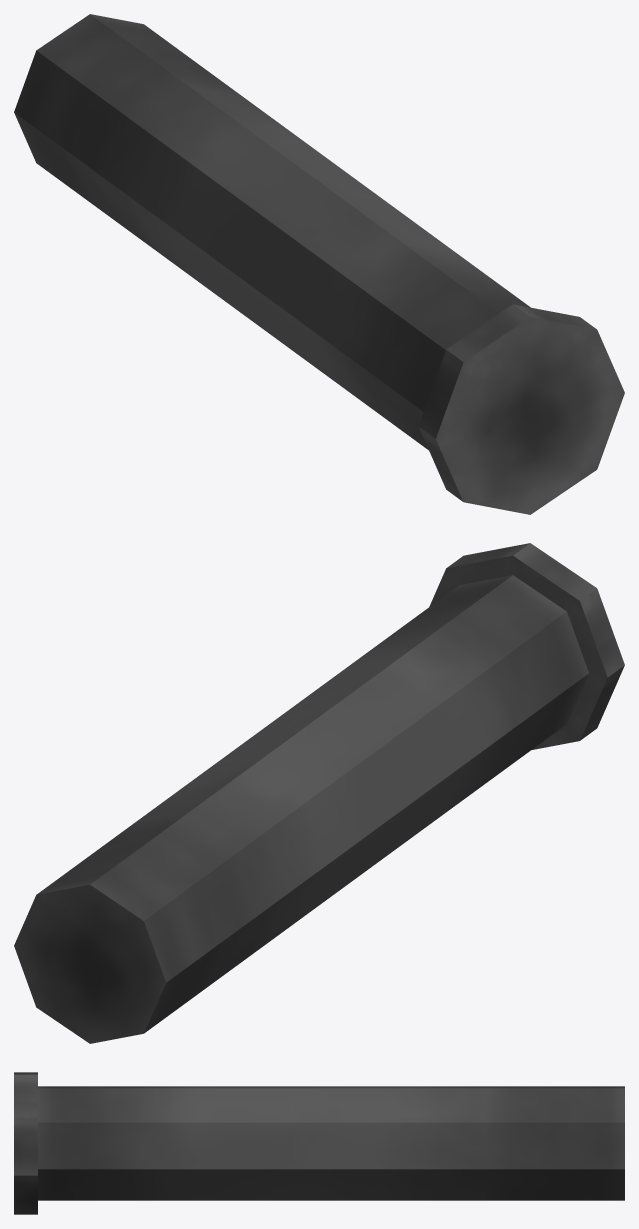
File: pipe_single.obj
The picture shows the model from 3 angles, top to bottom: view 1: azimuth 30°, elevation 25°; view 2: azimuth 150°, elevation 25°; view 3: azimuth 270°, elevation 25°; orthographic projection. The views are drawn at different scales.
Visible parts, largest first — view 1: pipe_single; view 2: pipe_single; view 3: pipe_single.
Part boxes in pixels (box(x1,y1,x2,y2)): pipe_single: box(14, 14, 624, 514); pipe_single: box(14, 543, 624, 1043); pipe_single: box(14, 1072, 624, 1214).
Bounding box in the file's own units: 0.124 × 0.124 × 0.5.
